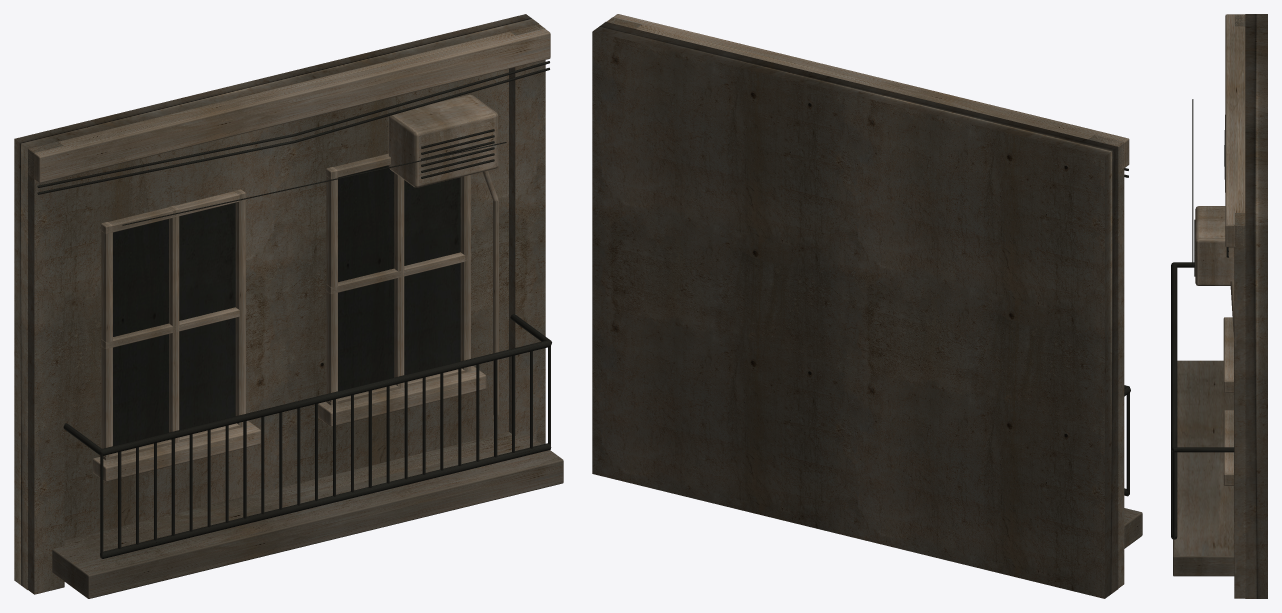
Rendered from mat_tien_tang_02.glb.
The picture shows the model from 3 angles, left to right: view 1: azimuth 30°, elevation 25°; view 2: azimuth 150°, elevation 25°; view 3: azimuth 270°, elevation 25°; orthographic projection. The views are drawn at different scales.
Visible parts, largest first — view 1: mat_tien_tang_02.001; view 2: mat_tien_tang_02.001; view 3: mat_tien_tang_02.001.
Part boxes in pixels (box(x1,y1,x2,y2)): mat_tien_tang_02.001: box(14, 14, 563, 598); mat_tien_tang_02.001: box(592, 14, 1142, 598); mat_tien_tang_02.001: box(1171, 14, 1267, 598).
Bounding box in the file's own units: 4 × 3.3 × 0.775.
Materials: 2 (2 with a texture image).
